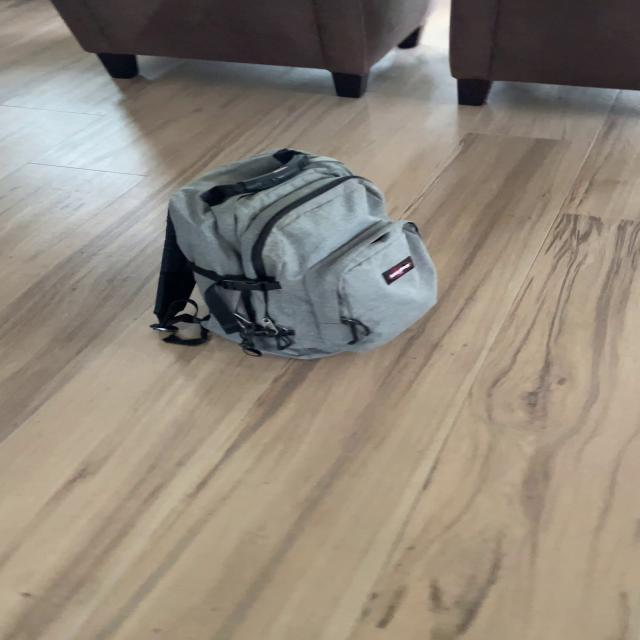backpack: (140, 141, 451, 368)
